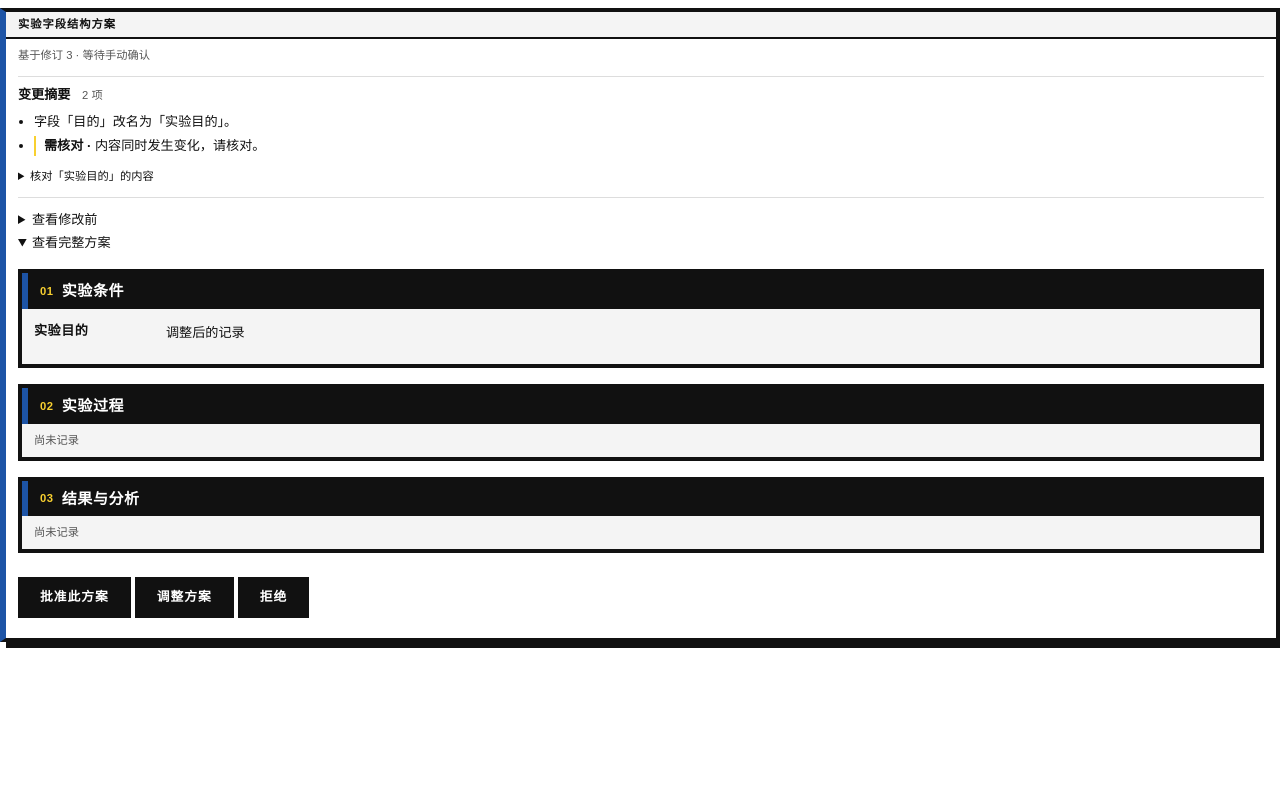
Test: 调整时隐藏旧摘要，保存后显示服务端新摘要，保存调整不会自动批准
Expected: the element named "方案变更摘要" is shown, left=18, top=76, right=1264, bottom=198
Click the button "调整方案" at (184, 597), box left=135, top=577, right=234, bottom=618
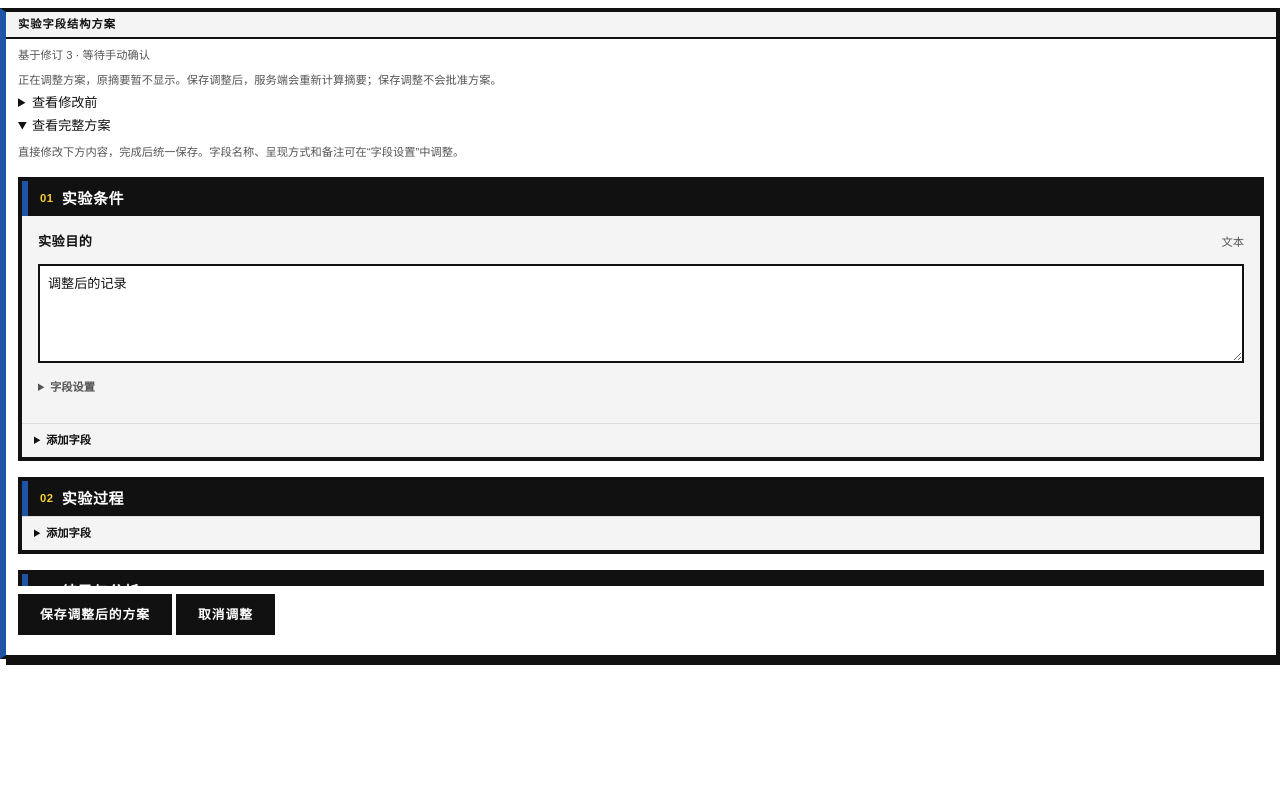
Expected: the element "方案变更摘要" is gone
Expected: the text "正在调整方案，原摘要暂不显示。保存调整后，服务端会重新计算摘要；保存调整不会批准方案。" is shown, left=18, top=74, right=502, bottom=86
Replace the text in the text box named "实验目的内容" with "人工调整的内容" at (641, 314), box left=38, top=264, right=1244, bottom=363
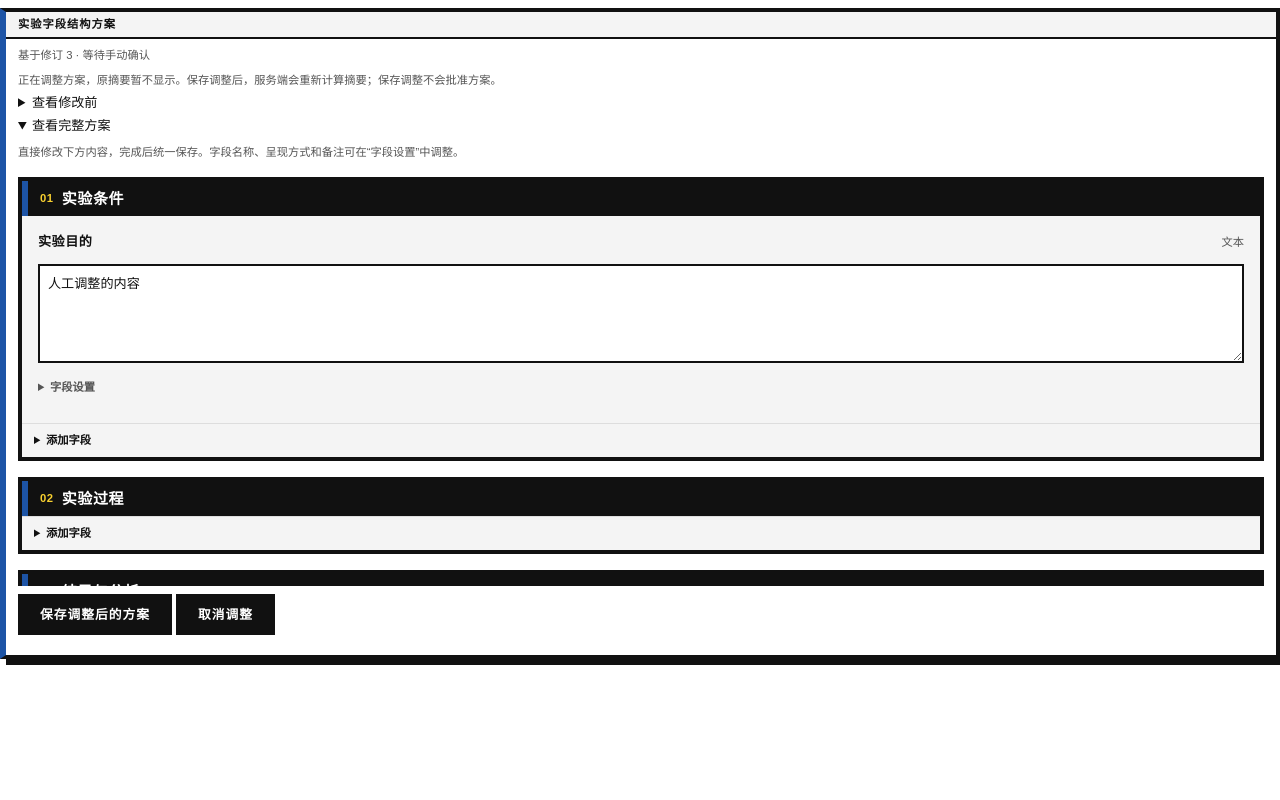
Click the button "保存调整后的方案" at (95, 614), box left=18, top=594, right=172, bottom=635
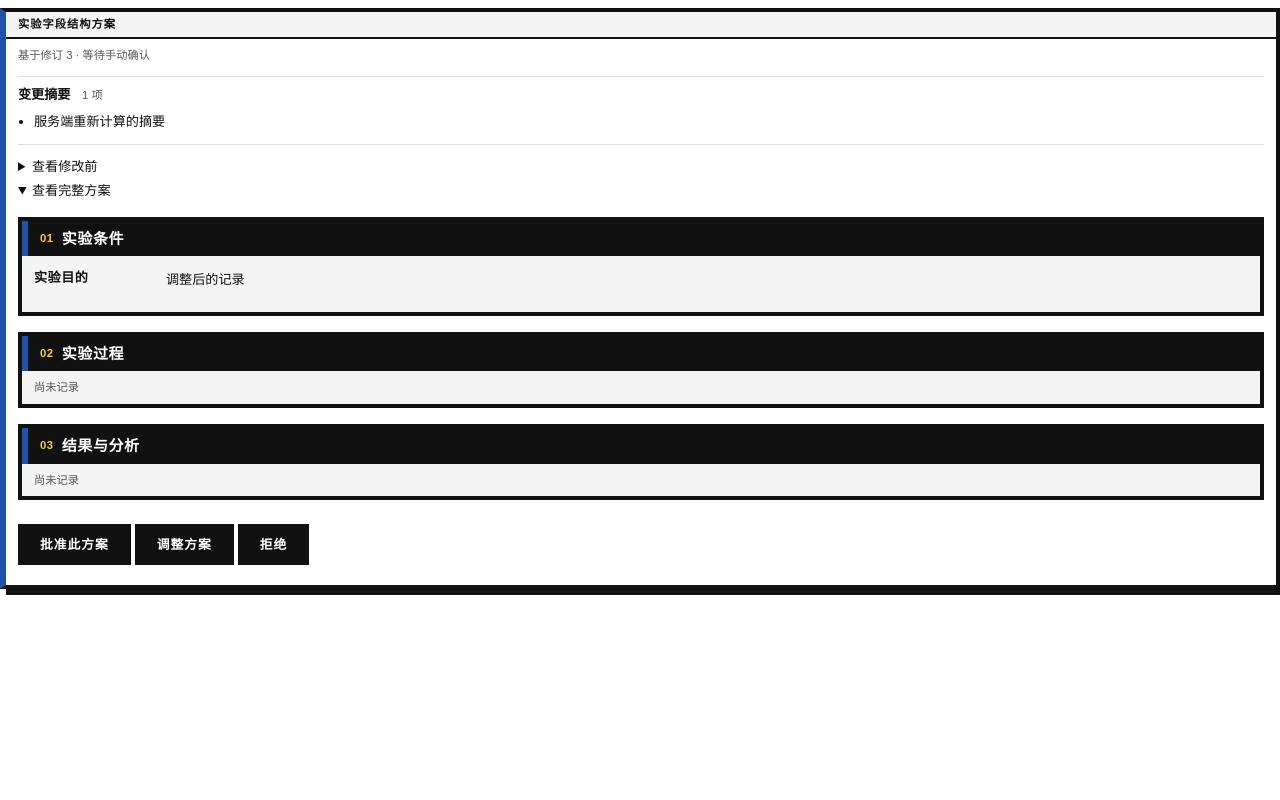
Expected: the list item "服务端重新计算的摘要" is shown, left=34, top=114, right=165, bottom=129
Click the button "批准此方案" at (74, 545), box left=18, top=524, right=131, bottom=565
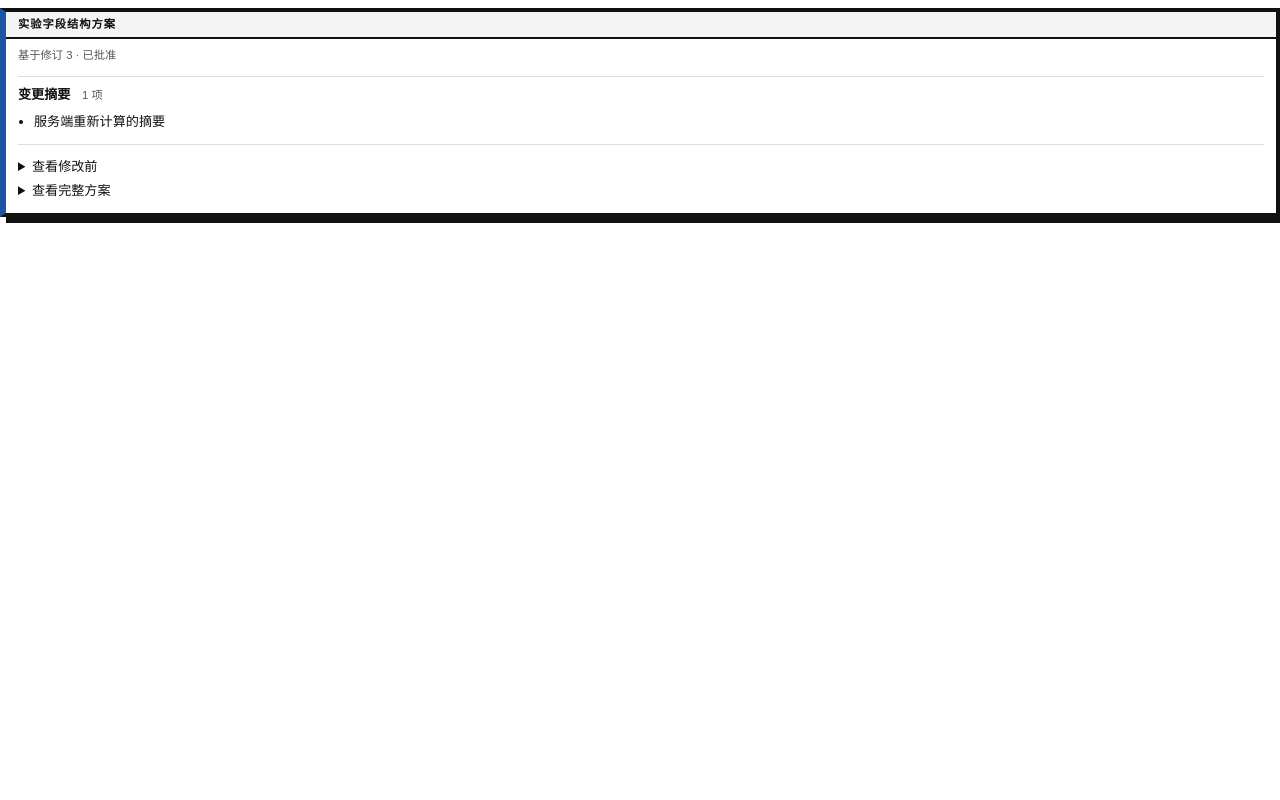
Expected: the text "基于修订 3 · 已批准" is shown, left=18, top=49, right=116, bottom=61
